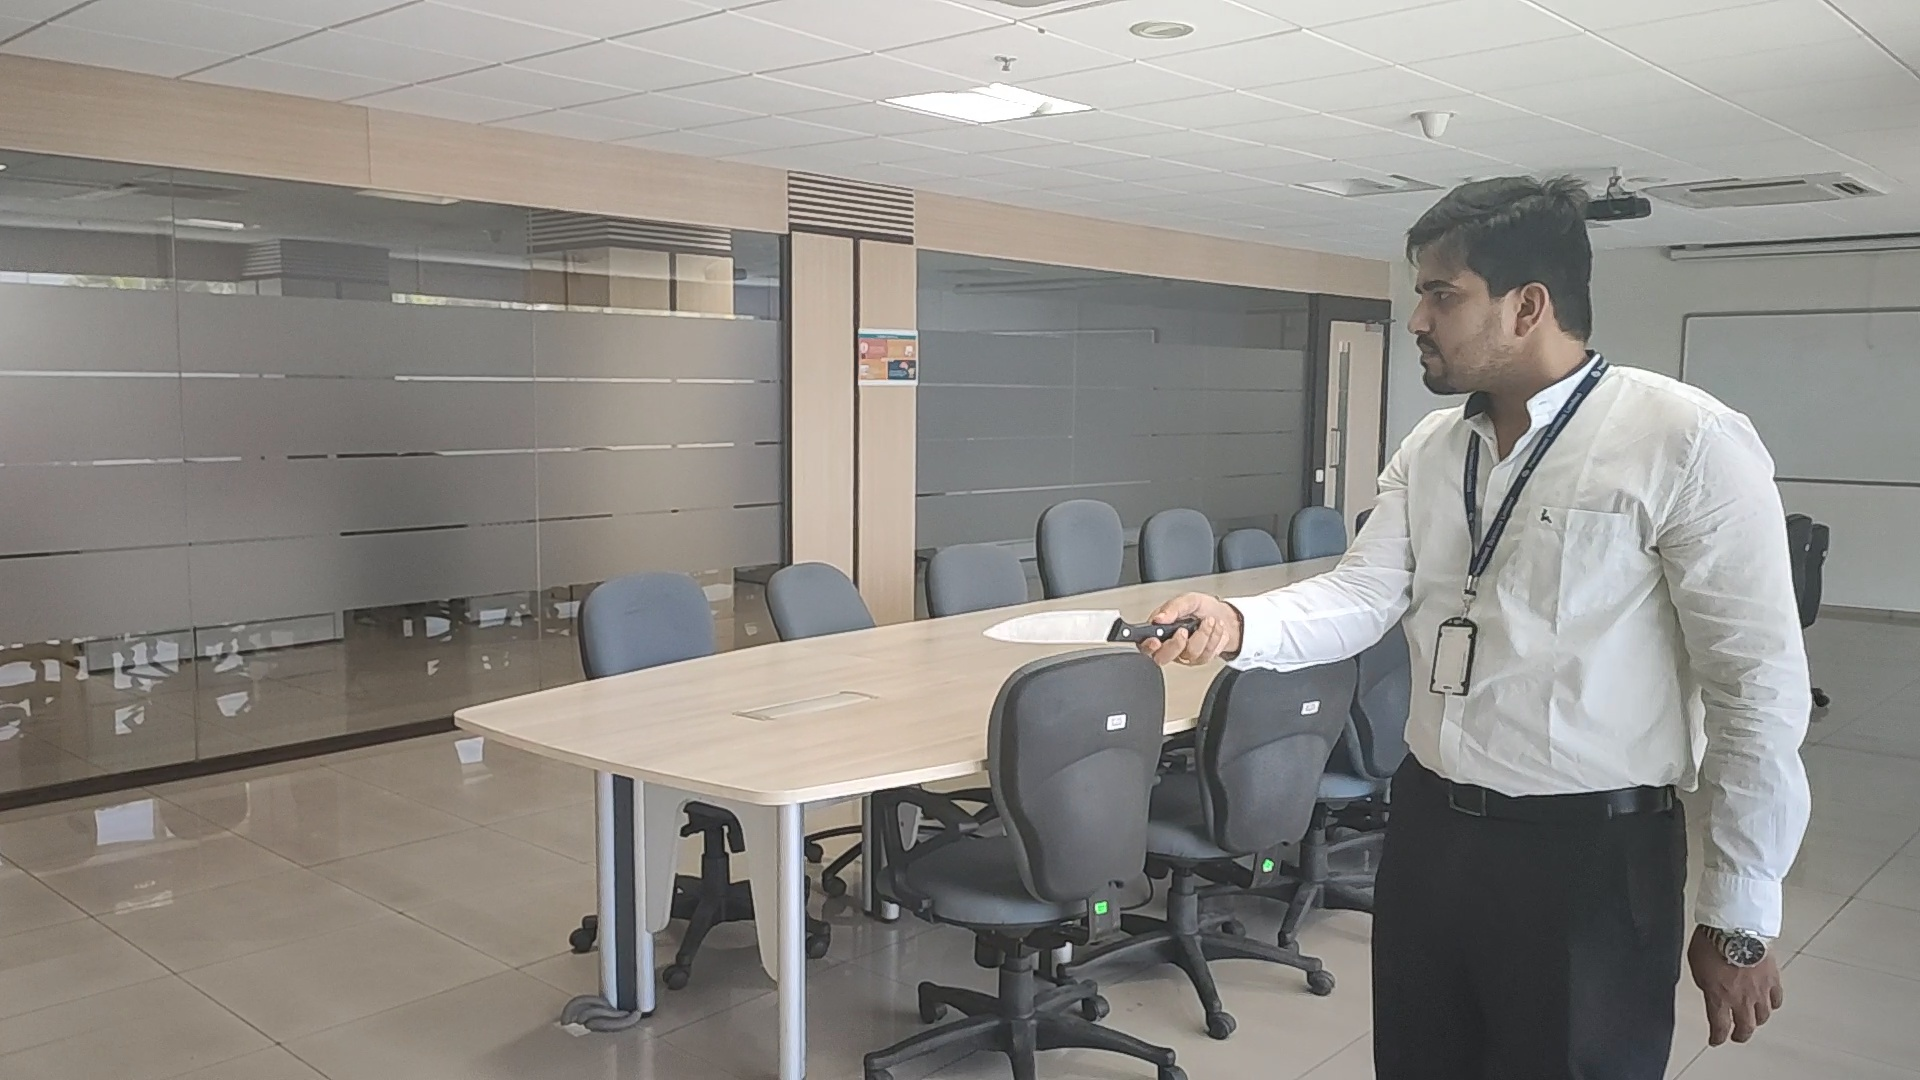knife: (981, 611, 1172, 649)
